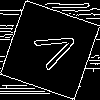V: (25, 25, 81, 75)
